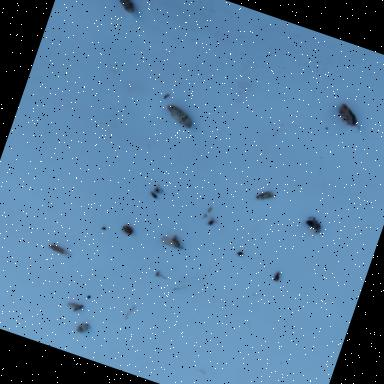pbw: (159, 100, 200, 132), (252, 182, 280, 208), (111, 0, 143, 17), (44, 240, 71, 260)
